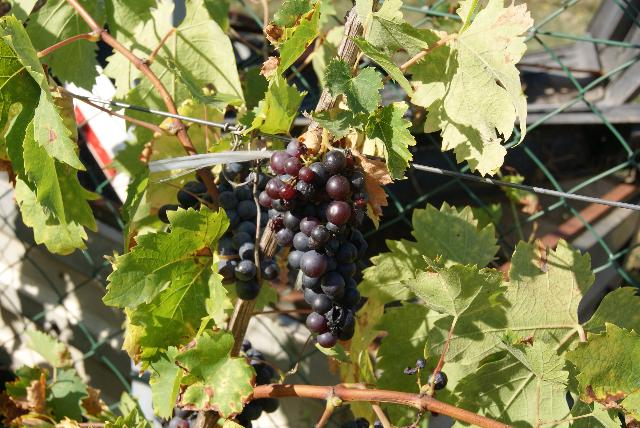grapes: (260, 141, 370, 349)
